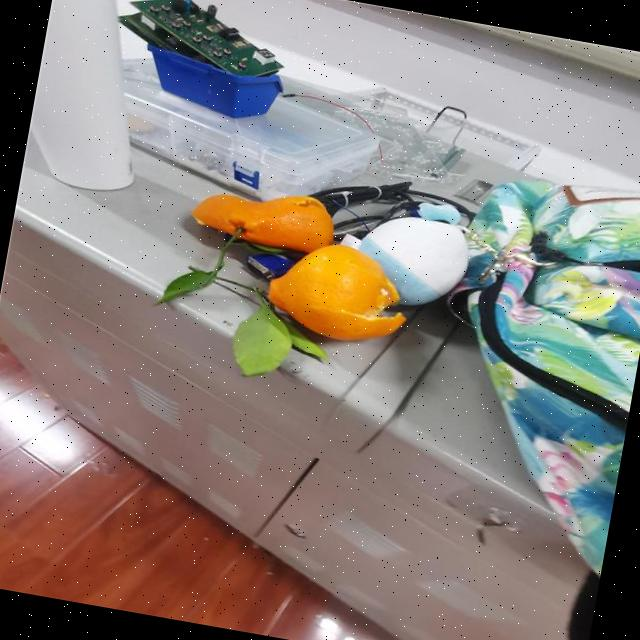orange-peel: (260, 231, 417, 351), (187, 175, 340, 258)
